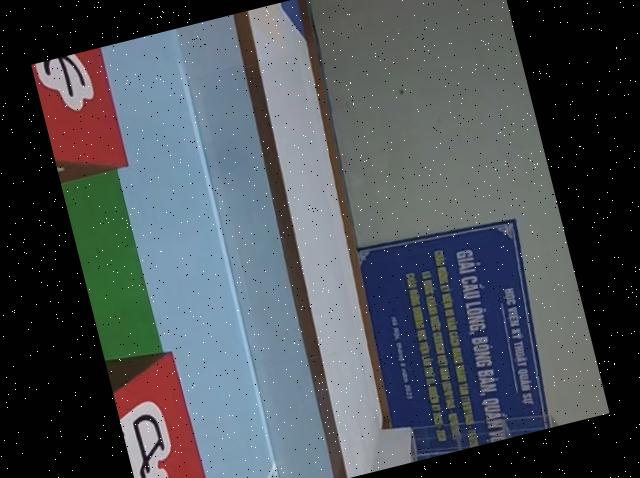R2 Real: (103, 334, 231, 478), (30, 45, 141, 190)
